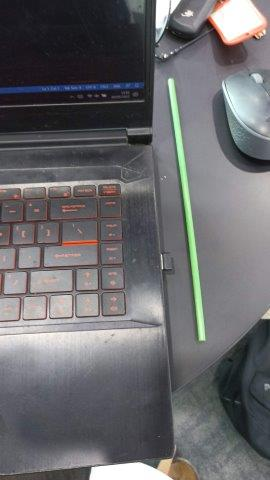sedotan: (169, 79, 205, 341)
